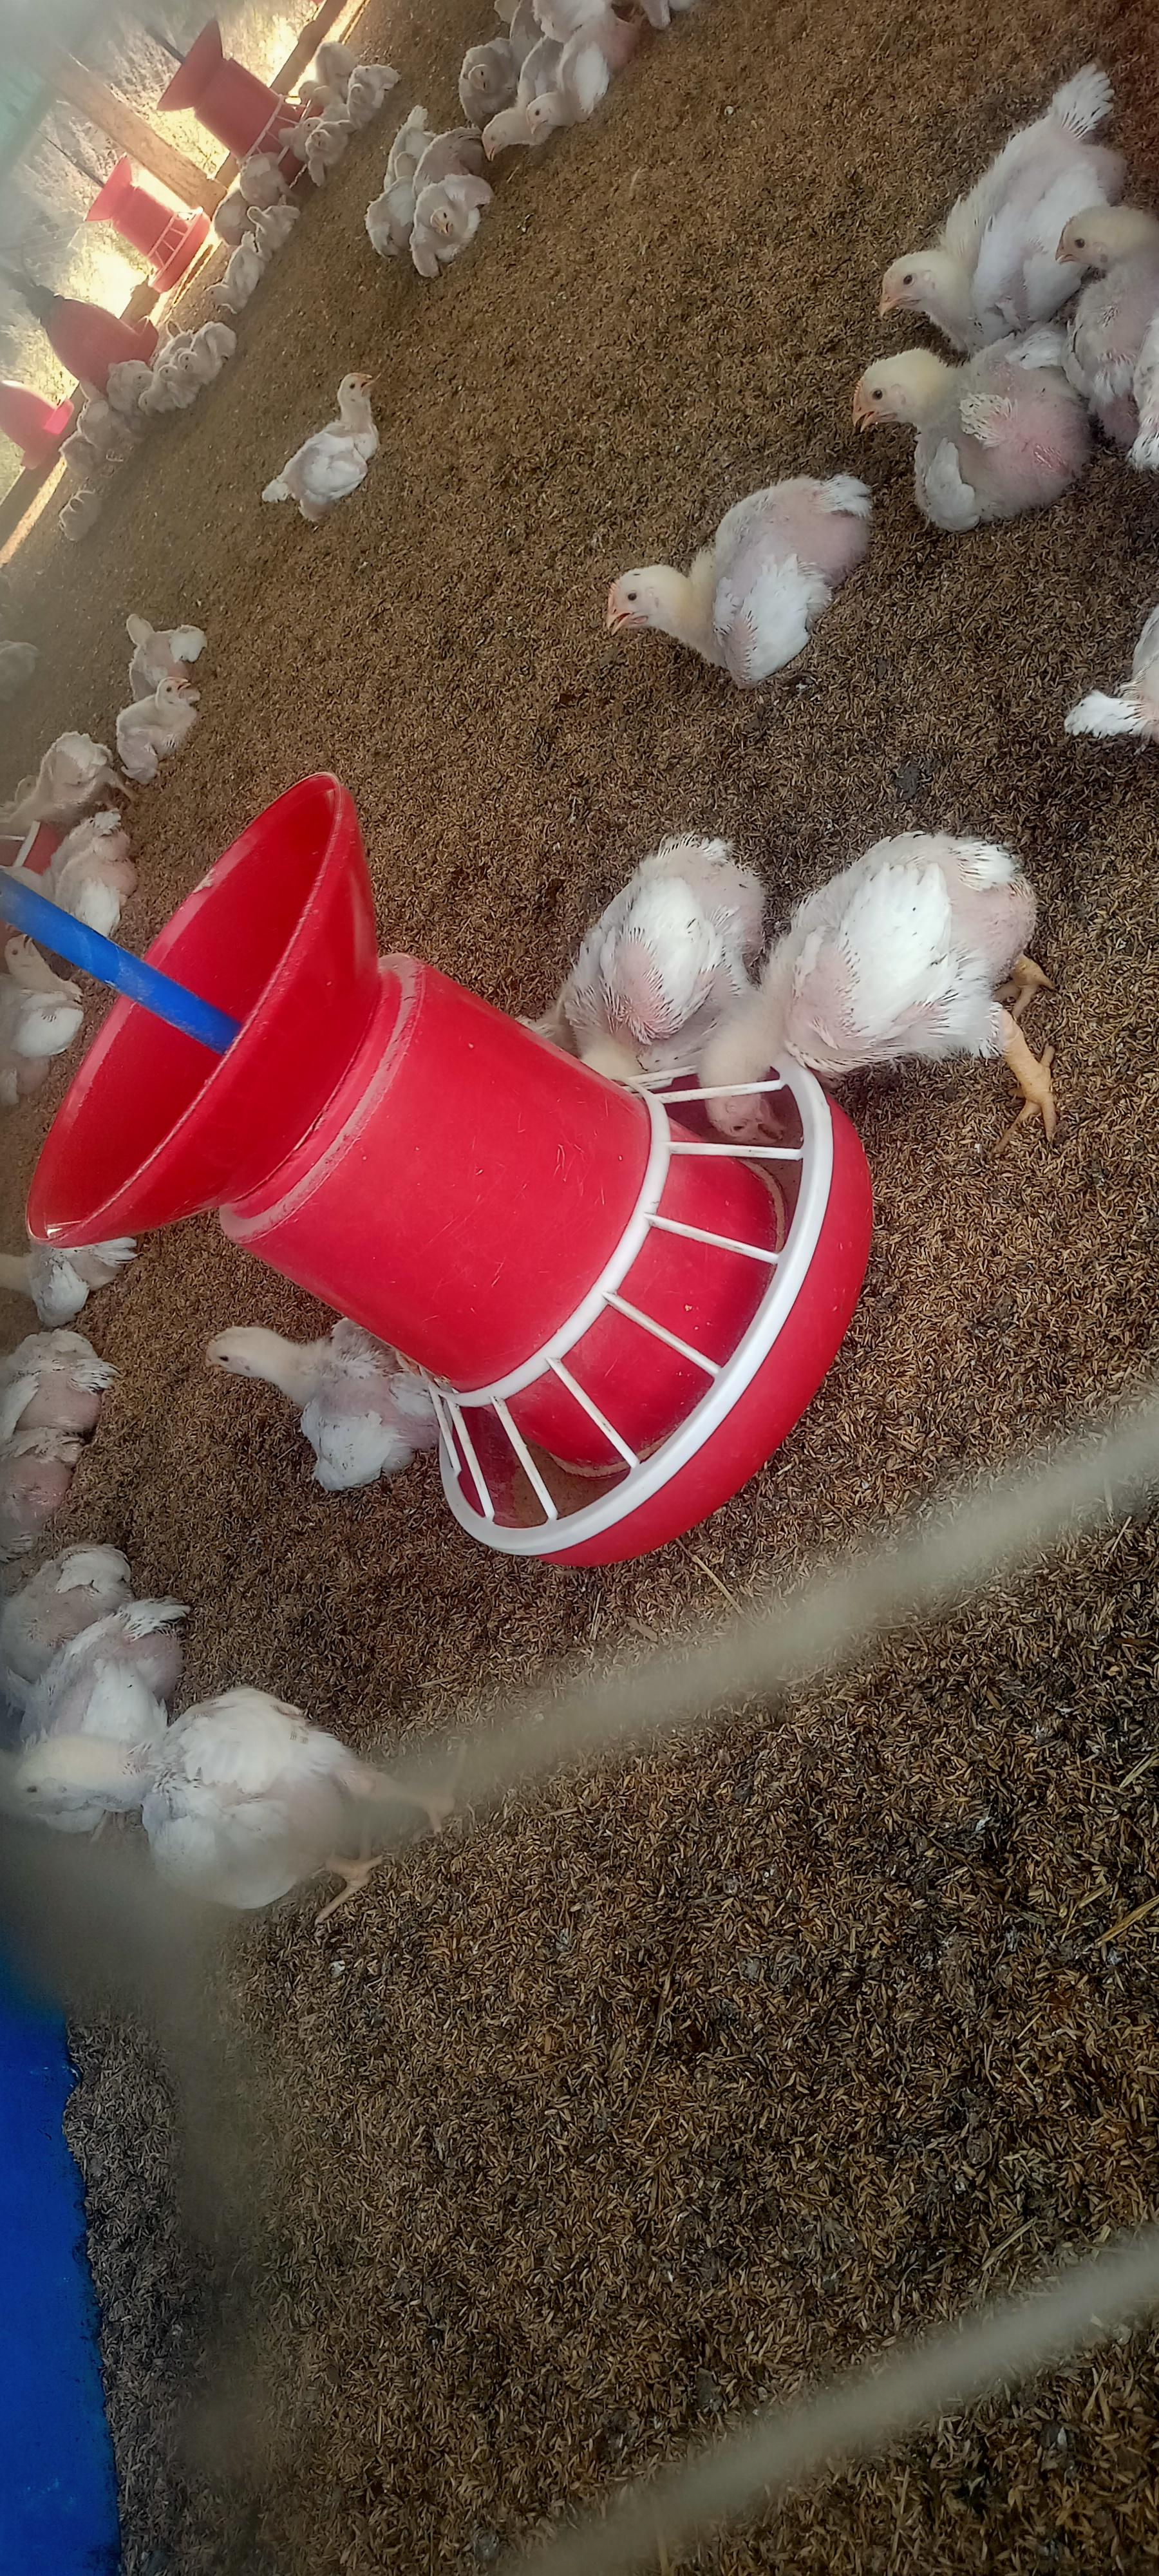Pollos: (712, 816, 1062, 1153), (872, 51, 1126, 337), (599, 467, 877, 677), (839, 340, 1087, 531), (182, 1309, 414, 1474), (263, 361, 392, 526)
